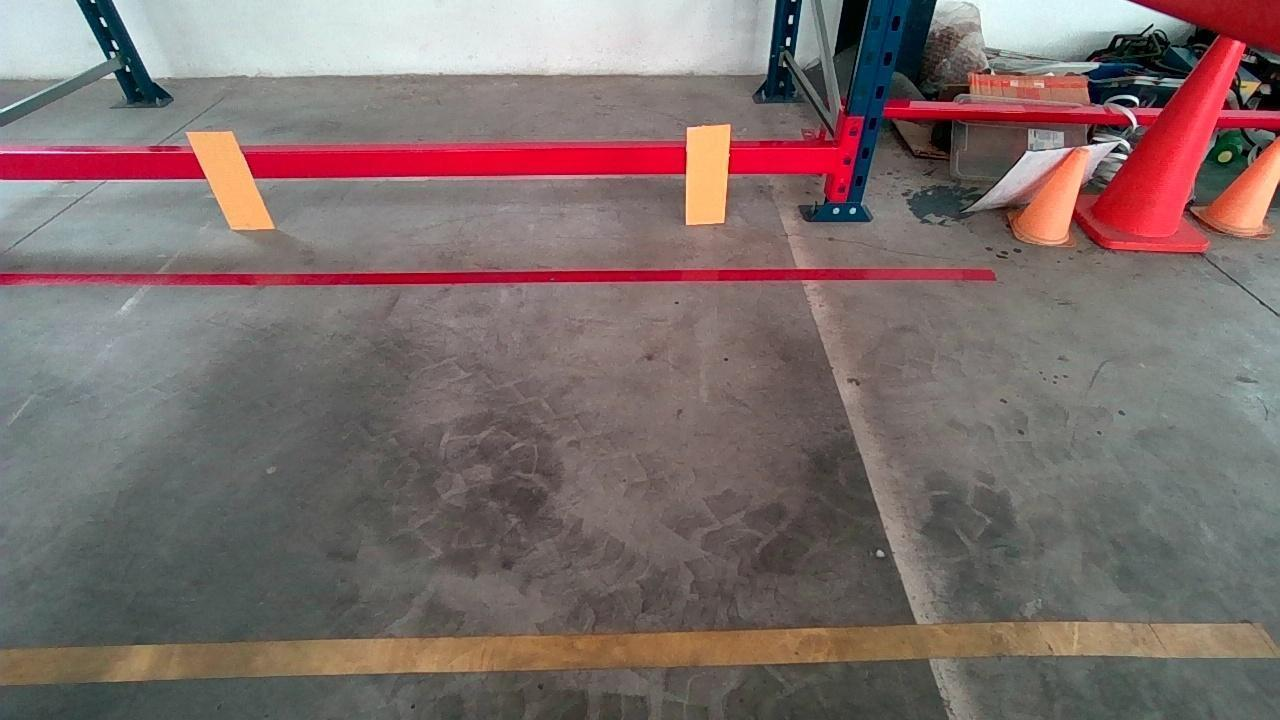red_line: (14, 263, 990, 291)
